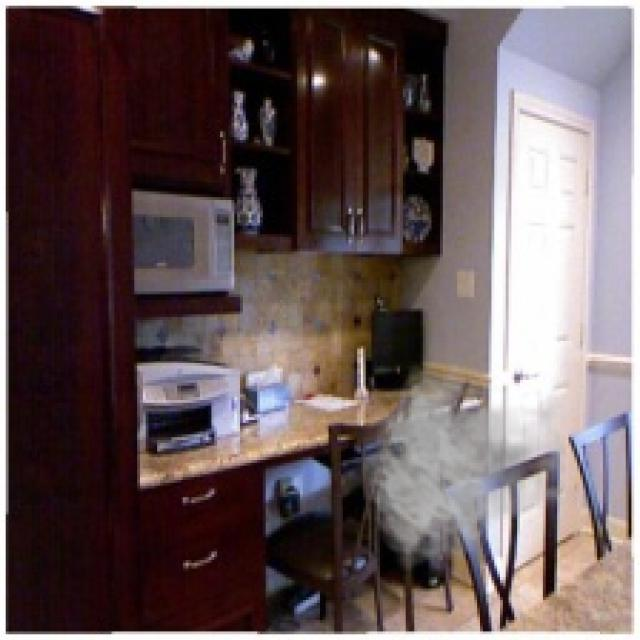smoke: (360, 360, 583, 571)
